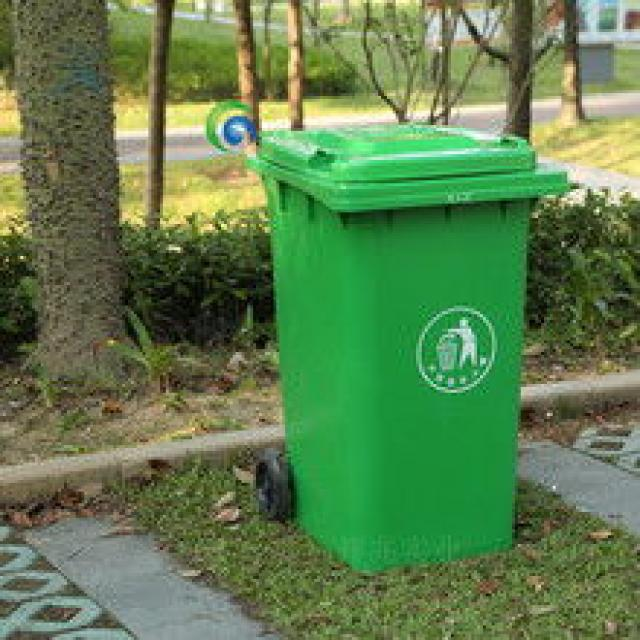garbage_bin: (245, 119, 568, 570)
